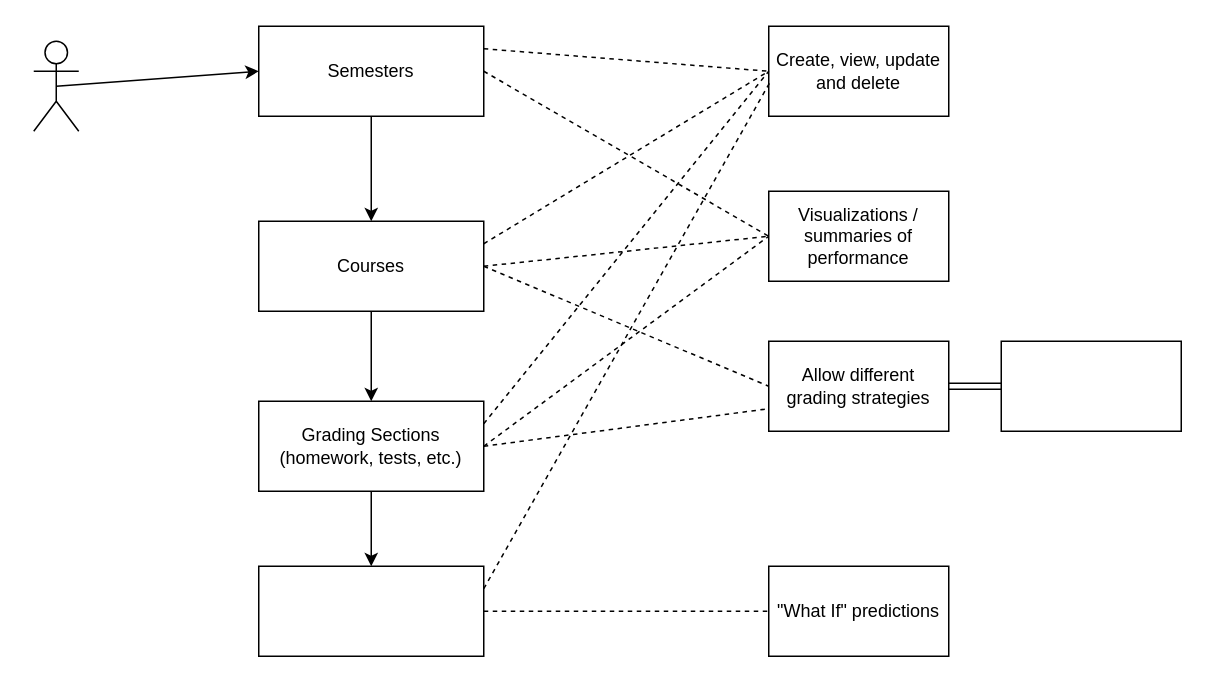
This 1208x683 diagram has some shape labels left out. Each missing label, with the box of its shape:
Allow additional grading requirements: (1000, 340, 1181, 431)
Grade Entries: (257, 565, 484, 656)
Student: (32, 40, 79, 131)
